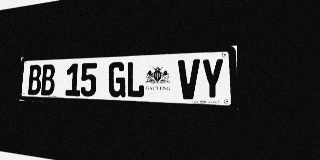1: (65, 63, 81, 96)
5: (81, 63, 97, 97)
B: (41, 64, 55, 95), (28, 65, 42, 95)
G: (108, 62, 126, 97)
L: (126, 61, 145, 98)
V: (178, 59, 200, 100)
Y: (201, 58, 224, 100)
